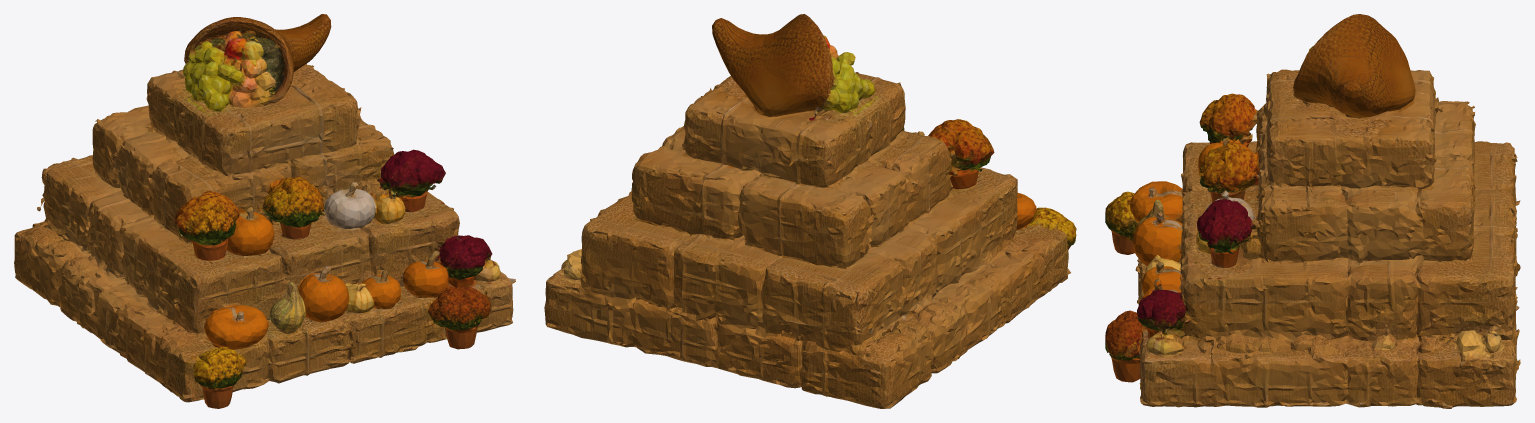
File: harvest-01-hunyuan.glb
The picture shows the model from 3 angles, left to right: view 1: azimuth 30°, elevation 25°; view 2: azimuth 150°, elevation 25°; view 3: azimuth 270°, elevation 25°; orthographic projection. The views are drawn at different scales.
Parts seen in each view (by area): view 1: textured_mesh.obj; view 2: textured_mesh.obj; view 3: textured_mesh.obj.
Part boxes in pixels (<box>): textured_mesh.obj: <box>14,14,515,408</box>; textured_mesh.obj: <box>544,14,1076,408</box>; textured_mesh.obj: <box>1105,14,1520,408</box>.
Size of the model in its own units: 1.98 by 1.58 by 1.98.
Materials: 1 (1 with a texture image).
